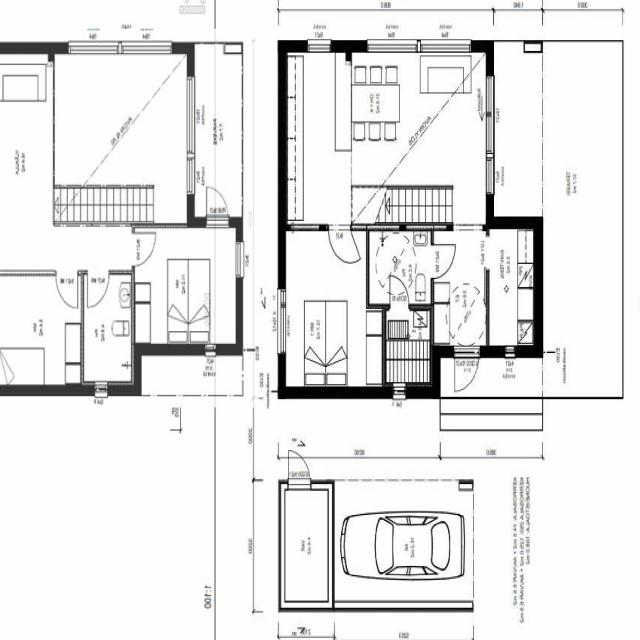door: (454, 345, 480, 396), (288, 444, 312, 490), (207, 181, 230, 227), (328, 223, 351, 263), (430, 244, 456, 278), (88, 270, 110, 309), (56, 270, 78, 308), (132, 233, 156, 266), (390, 274, 409, 308)
